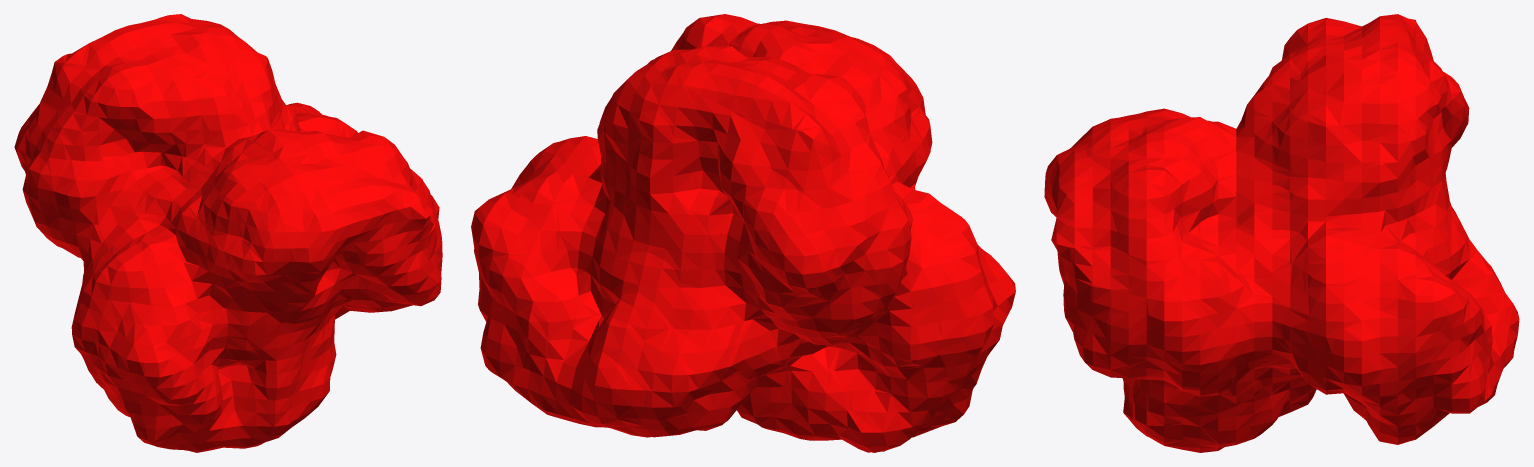
File: prr_coarse.dae
3 renders of one model, left to right at view 1: azimuth 30°, elevation 25°; view 2: azimuth 150°, elevation 25°; view 3: azimuth 270°, elevation 25°, orthographic. The views are drawn at different scales.
Parts seen in each view (by area): view 1: prr; view 2: prr; view 3: prr.
Boxes of the visible parts, box(x1,y1,x2,y2) form: prr: box(14, 14, 442, 452); prr: box(471, 14, 1015, 452); prr: box(1044, 14, 1519, 452).
Size of the model in its own units: 98.57 by 95.95 by 103.
